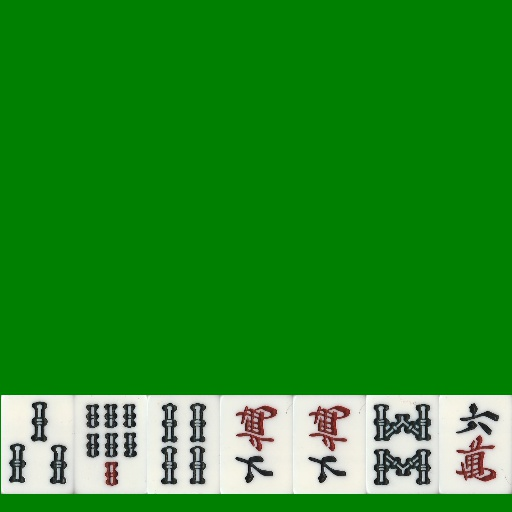3s: (1, 395, 74, 494)
4s: (147, 395, 220, 494)
6m: (439, 395, 512, 494)
7m: (220, 395, 293, 494), (293, 395, 366, 494)
7s: (74, 395, 147, 494)
8s: (366, 395, 439, 494)
